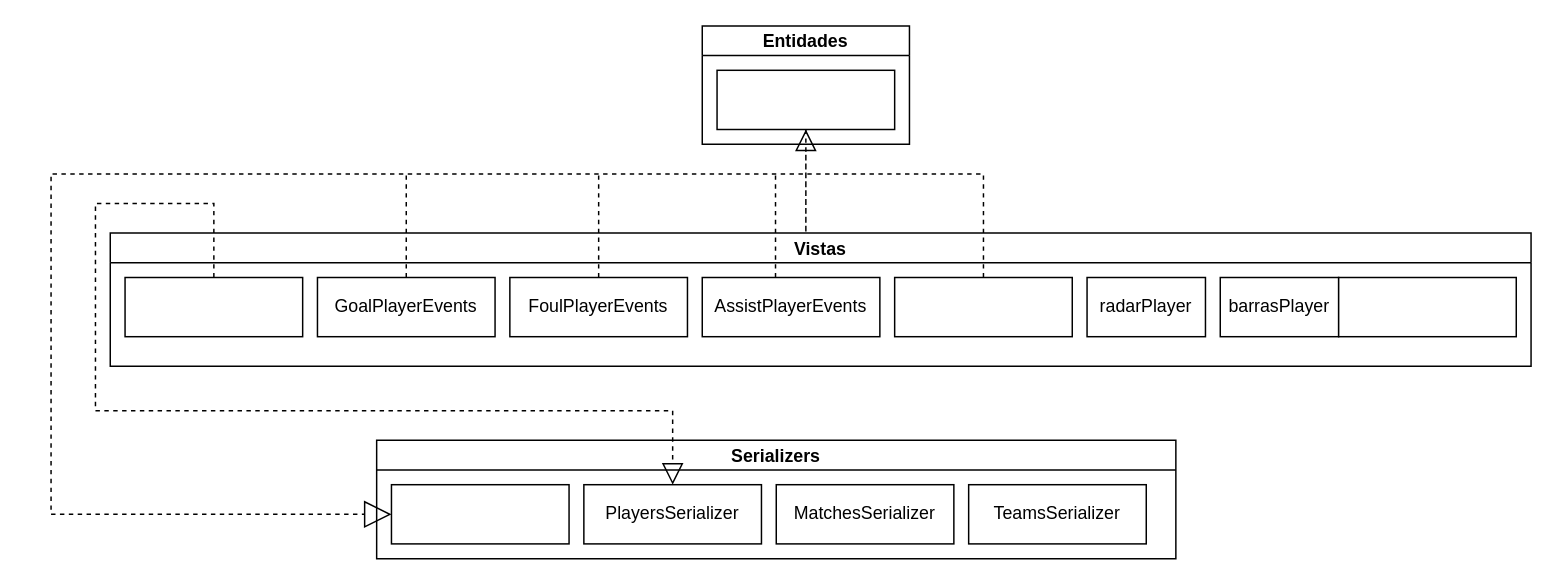
This 1557x585 diagram has some shape labels left out. Here are the shapes that lost their labels. From the top down, the centre of each, then its label:
At [805,99]: "Events".
At [213,306]: "PlayerList".
At [982,306]: "FreeKickPlayerEvents".
At [1426,306]: "eventosPorPartido".
At [479,513]: "EventsSerializer".
